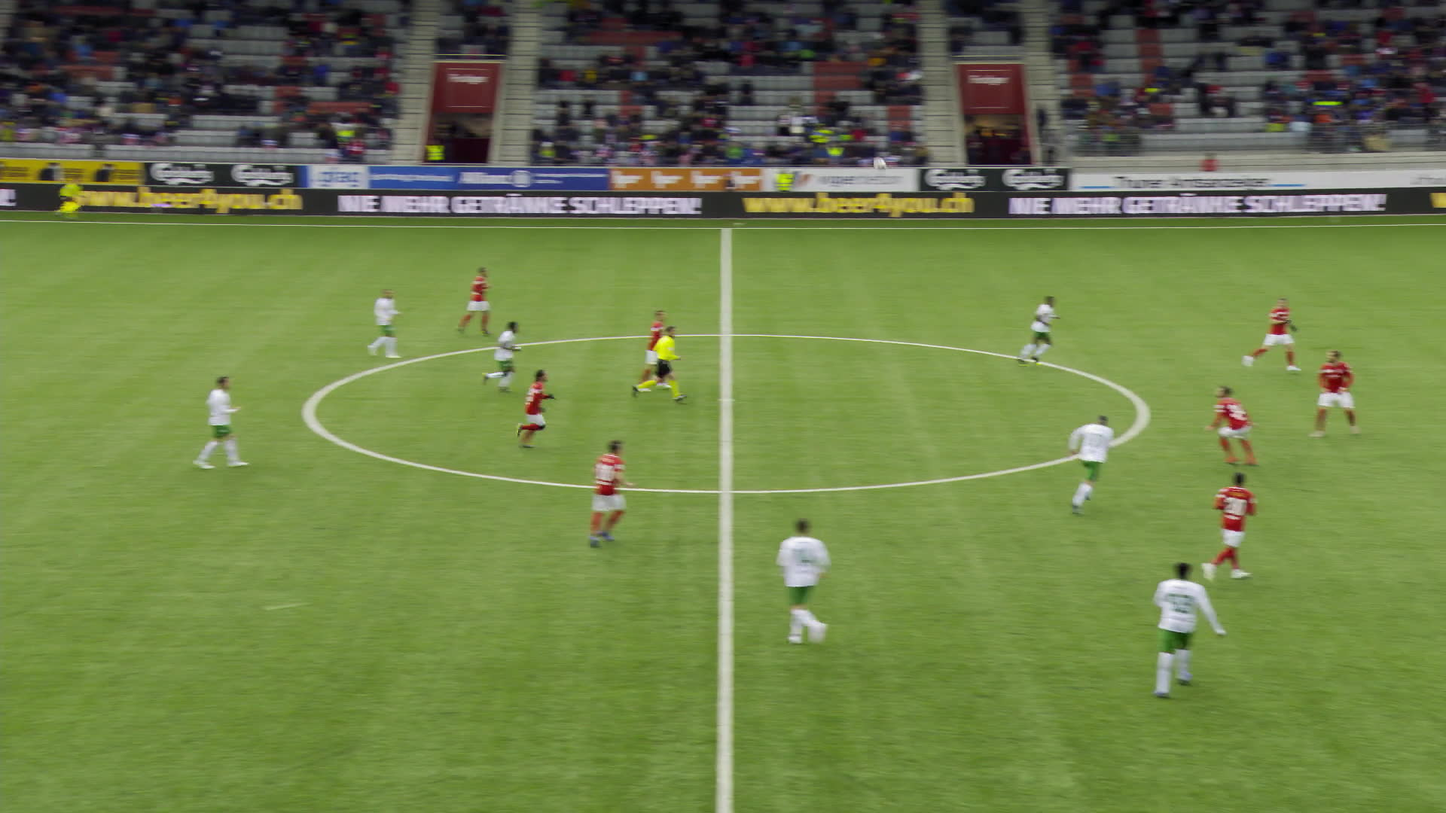ball: (872, 157, 885, 169)
player: (1164, 562, 1234, 700), (786, 516, 847, 647), (587, 437, 640, 550), (1217, 472, 1271, 581), (209, 376, 264, 470), (1077, 413, 1127, 512), (1243, 294, 1304, 373), (1222, 382, 1274, 469), (1316, 349, 1363, 440), (515, 368, 561, 450), (490, 319, 536, 391), (1025, 296, 1070, 369), (374, 285, 411, 358), (654, 309, 685, 393), (468, 266, 504, 338)
referee: (628, 325, 688, 403), (55, 181, 84, 219)
